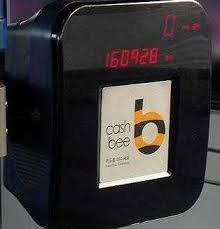terminal: (7, 1, 214, 229)
